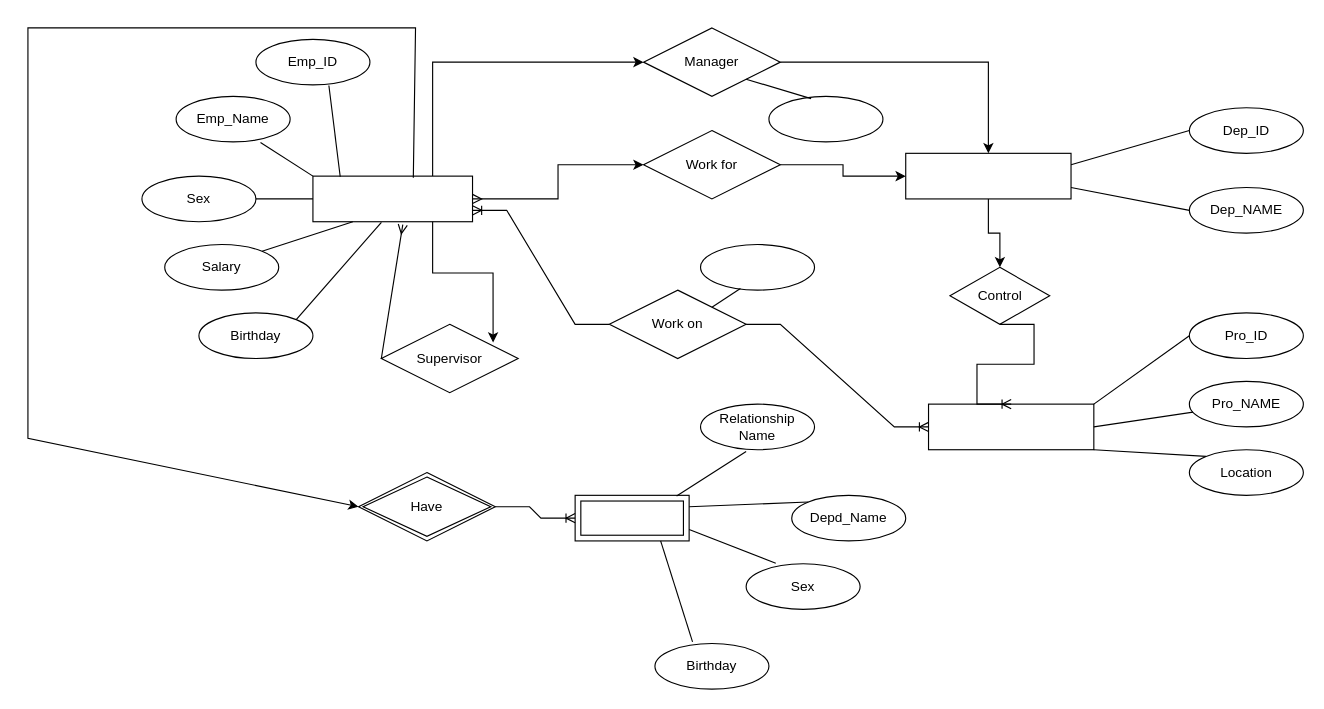
The diagram is 1324 pixels wide and 709 high, and some of its shapes have lost their labels. Each missing label, with the centre of its shape:
"DEPARTMENTS" belongs at point (988, 175).
"Dependent" belongs at point (631, 517).
"EMPLOYEE" belongs at point (392, 198).
"Hour" belongs at point (757, 266).
"Project" belongs at point (1010, 426).
"Start Date" belongs at point (825, 118).
